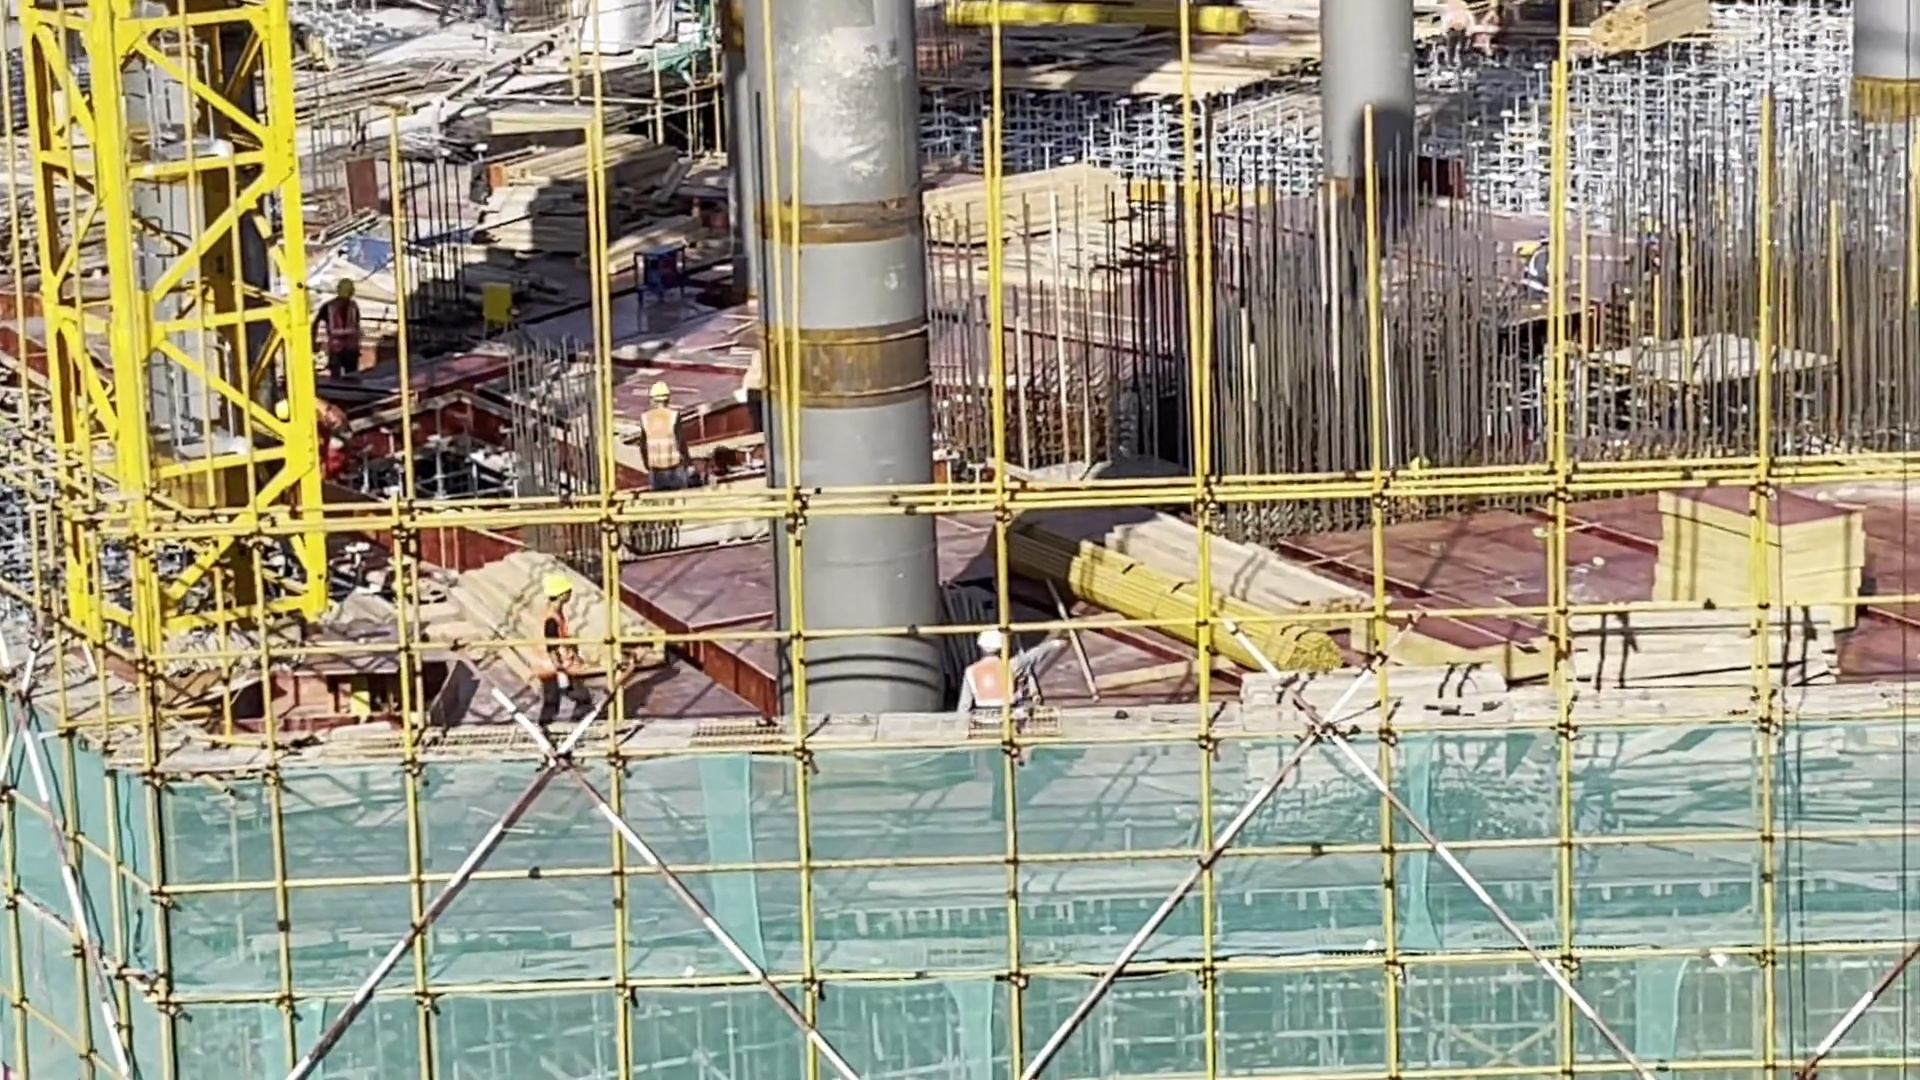board: (1656, 489, 1869, 610), (493, 134, 673, 249)
helmet: (975, 628, 1009, 653), (546, 575, 570, 599)
person: (528, 570, 605, 726), (944, 630, 1069, 711), (631, 385, 702, 491), (312, 280, 374, 376)
vest: (541, 611, 577, 684), (962, 658, 1013, 710), (644, 410, 679, 470), (324, 300, 361, 348)
wood: (1079, 508, 1370, 677), (1551, 591, 1871, 688), (932, 165, 1148, 235), (1589, 3, 1733, 68)
